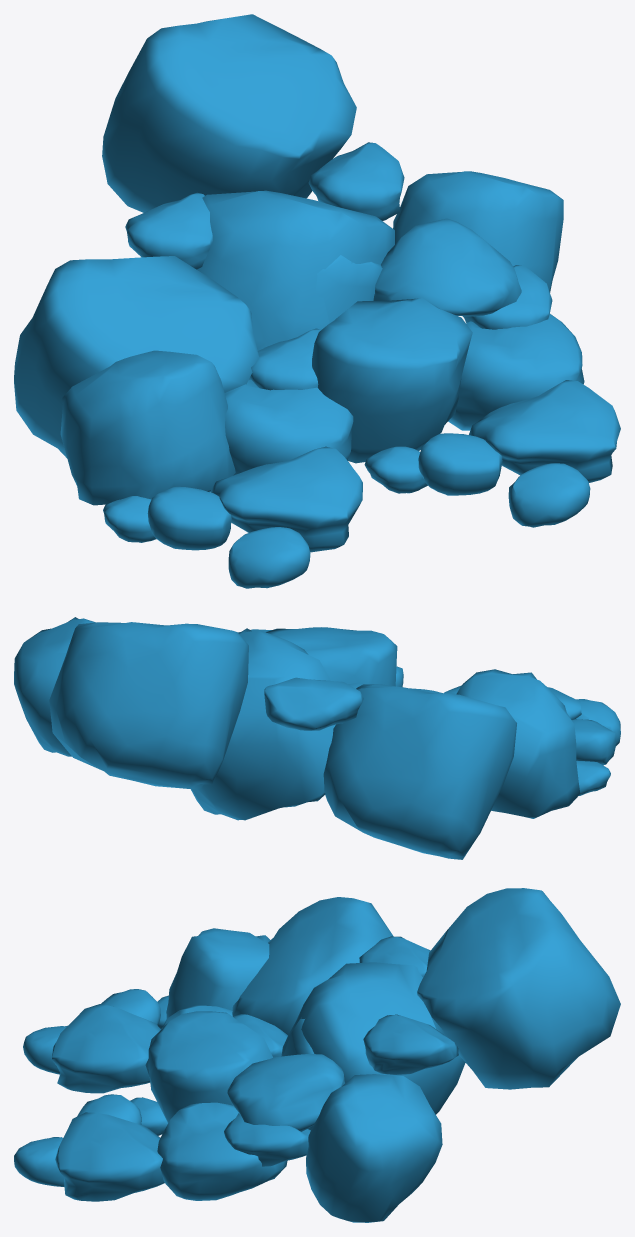
File: Scree_01_Lod0.fbx
3 views of the same model, one above another, from view 1: azimuth 30°, elevation 25°; view 2: azimuth 150°, elevation 25°; view 3: azimuth 270°, elevation 25° (orthographic). The views are drawn at different scales.
Visible parts, largest first — view 1: Scree_01_Lod0; view 2: Scree_01_Lod0; view 3: Scree_01_Lod0.
Boxes of the visible parts, x1,y1,x2,y2 form: Scree_01_Lod0: [14, 14, 620, 588]; Scree_01_Lod0: [14, 617, 620, 859]; Scree_01_Lod0: [14, 888, 620, 1222].
Bounding box in the file's own units: 2048 × 1068 × 2247.
